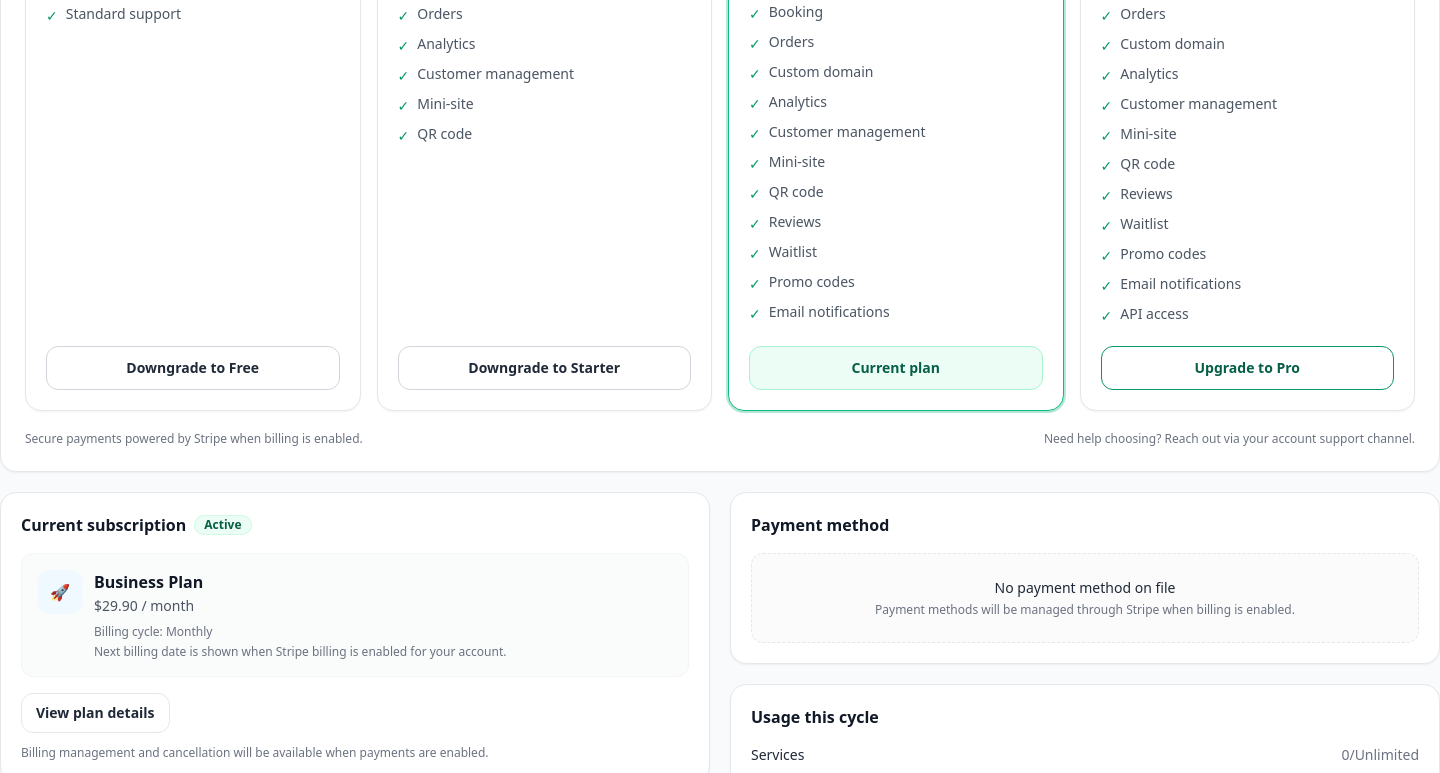
admin billing checkout › G. lower plan creates real downgrade request after API resolves
(page scrolled)
Click the button with test id "admin-payments-plan-cta-starter": (544, 368) [398,346,691,390]
(page scrolled)
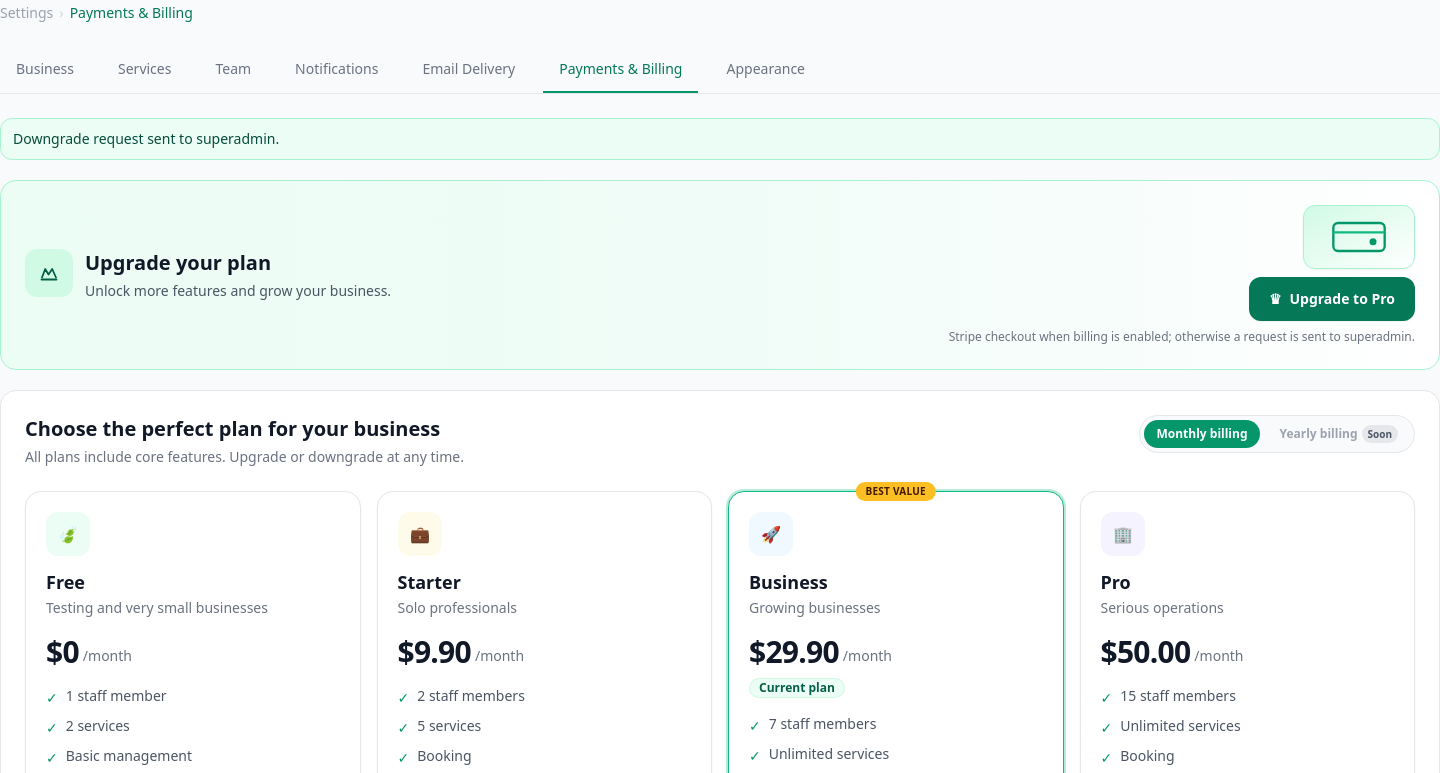
Expected: the message with test id "admin-payments-action-feedback" reads "Downgrade request sent to superadmin.", [13,129,279,148]
